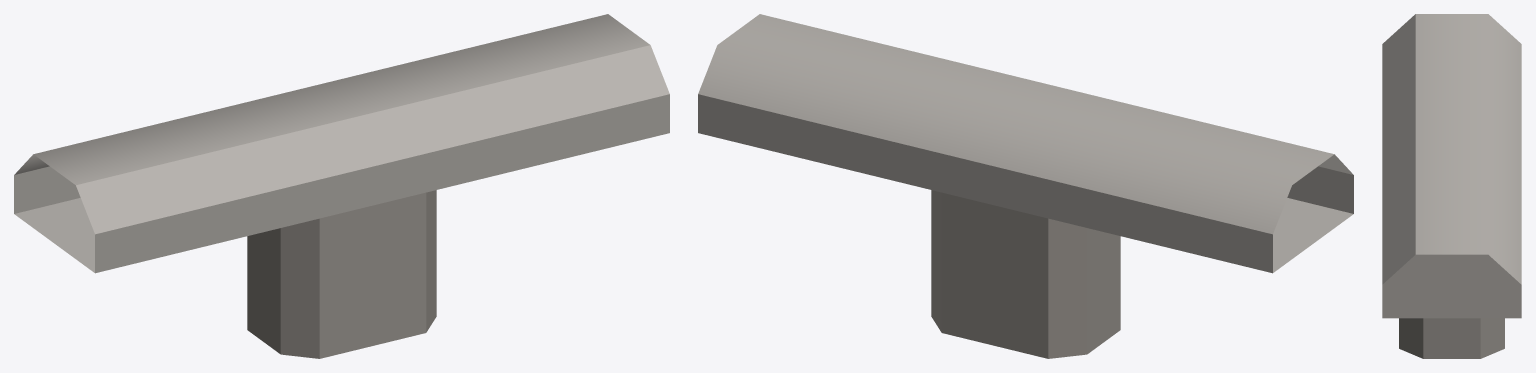
Rendered from Stage Fence 01 Mid.FBX.
3 renders of one model, left to right at view 1: azimuth 30°, elevation 25°; view 2: azimuth 150°, elevation 25°; view 3: azimuth 270°, elevation 25°, orthographic. The views are drawn at different scales.
Parts seen in each view (by area): view 1: Stage Fence 01 Mid; view 2: Stage Fence 01 Mid; view 3: Stage Fence 01 Mid.
Part boxes in pixels (x1,y1,x2,y2): Stage Fence 01 Mid: (14, 14, 669, 358); Stage Fence 01 Mid: (698, 14, 1353, 358); Stage Fence 01 Mid: (1382, 14, 1521, 358).
Bounding box in the file's own units: 100 × 37.18 × 24.42.
Materials: 1 (1 with a texture image).
